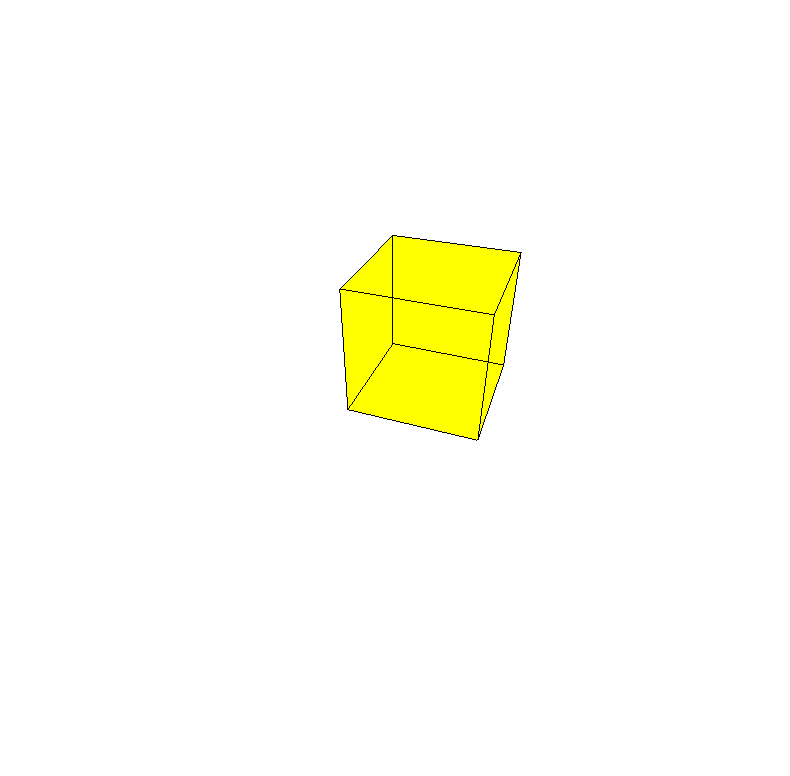NothingYellow: (156, 196, 522, 442)
